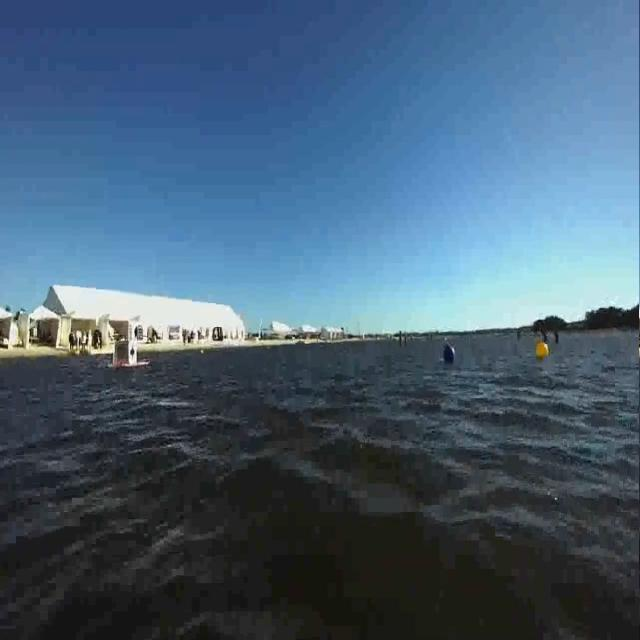blue-buoy: (443, 342, 457, 365)
yellow-buoy: (536, 340, 549, 360)
